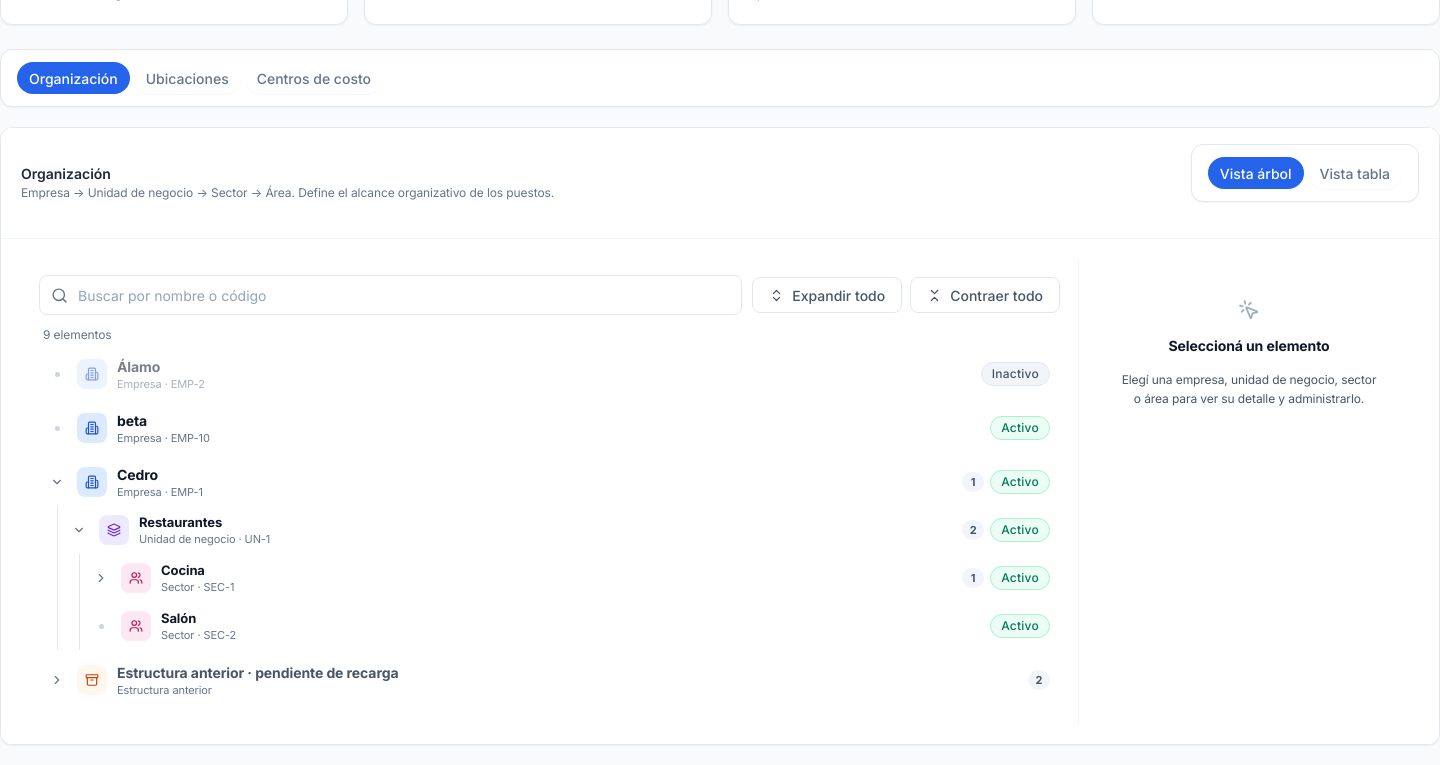
Test: OrgStructurePage — padres del modelo nuevo y restricciones de transición › D-9: un sector con áreas o centros de costo no se puede mover y se explica el motivo
The width and height of the screenshot is (1440, 765).
(page scrolled)
What coordinates should you click on to do the following:
click the text "Cocina"
I would click on:
 (183, 570)
Its box is [161,562,205,578].
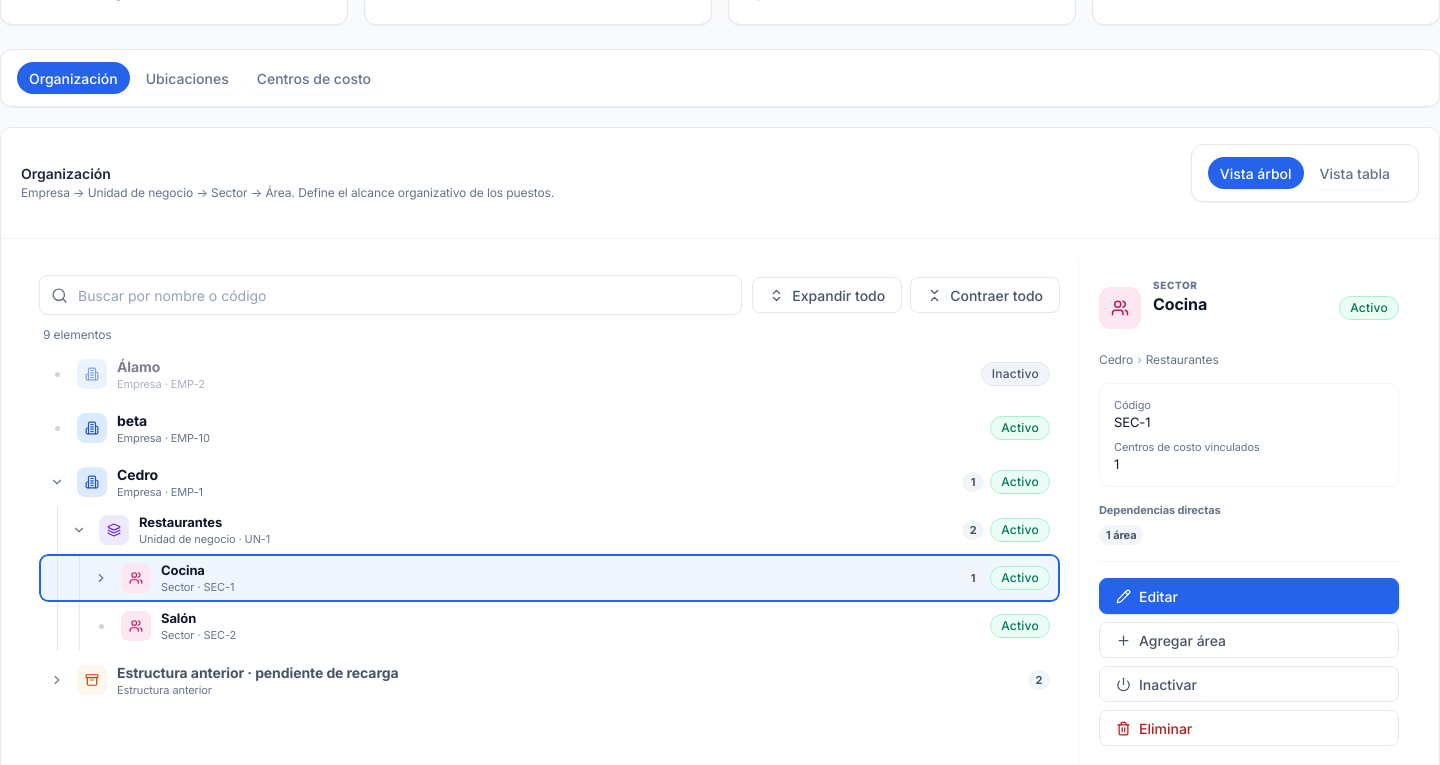
What coordinates should you click on to do the following:
click the button "Editar"
I would click on:
 (1158, 596)
Its box is [1099,578,1399,614].
(page scrolled)
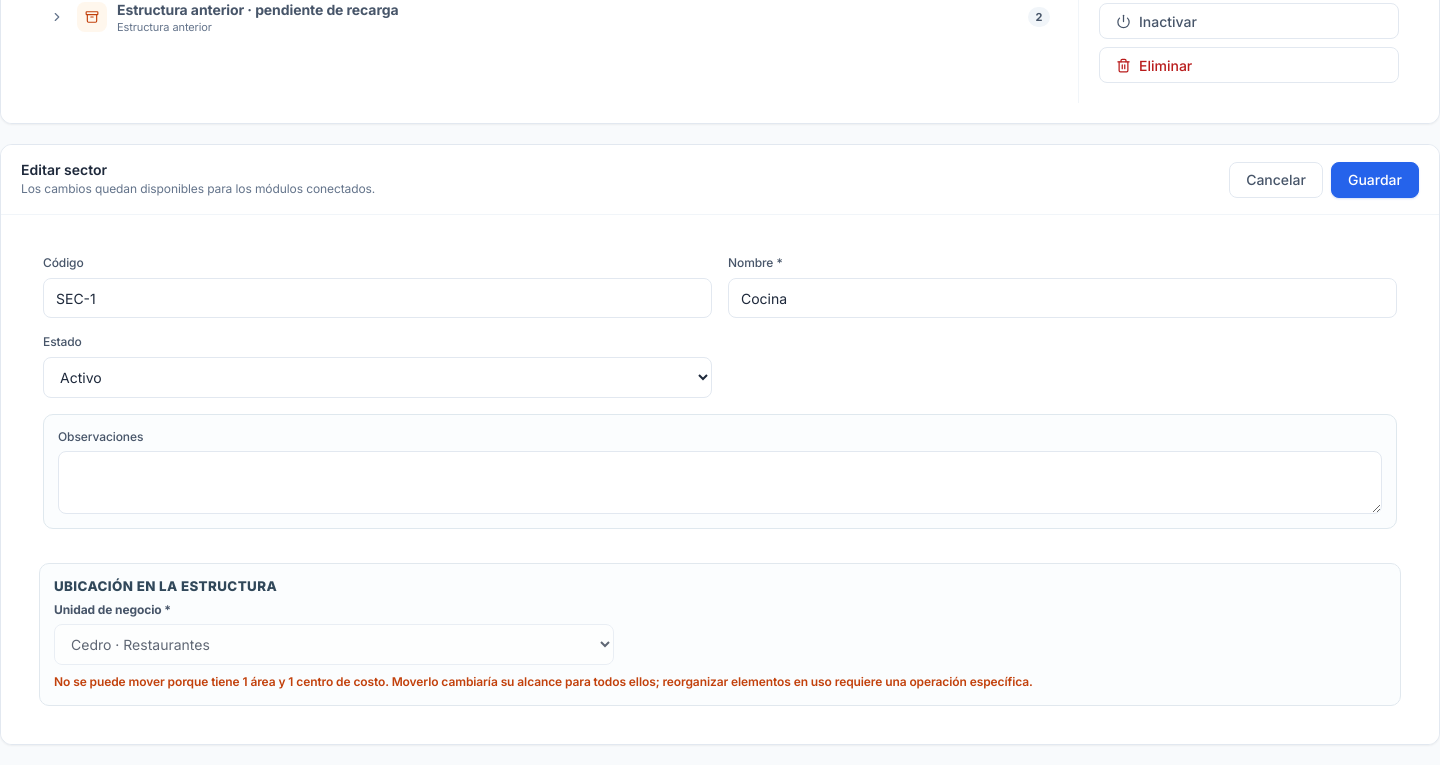
expect the dropdown labelled "Unidad de negocio *" is disabled: met, box [54,624,614,665]
expect the text "No se puede mover porque tiene 1 área y 1 centro de costo" is shown: met, box [54,674,1033,689]
